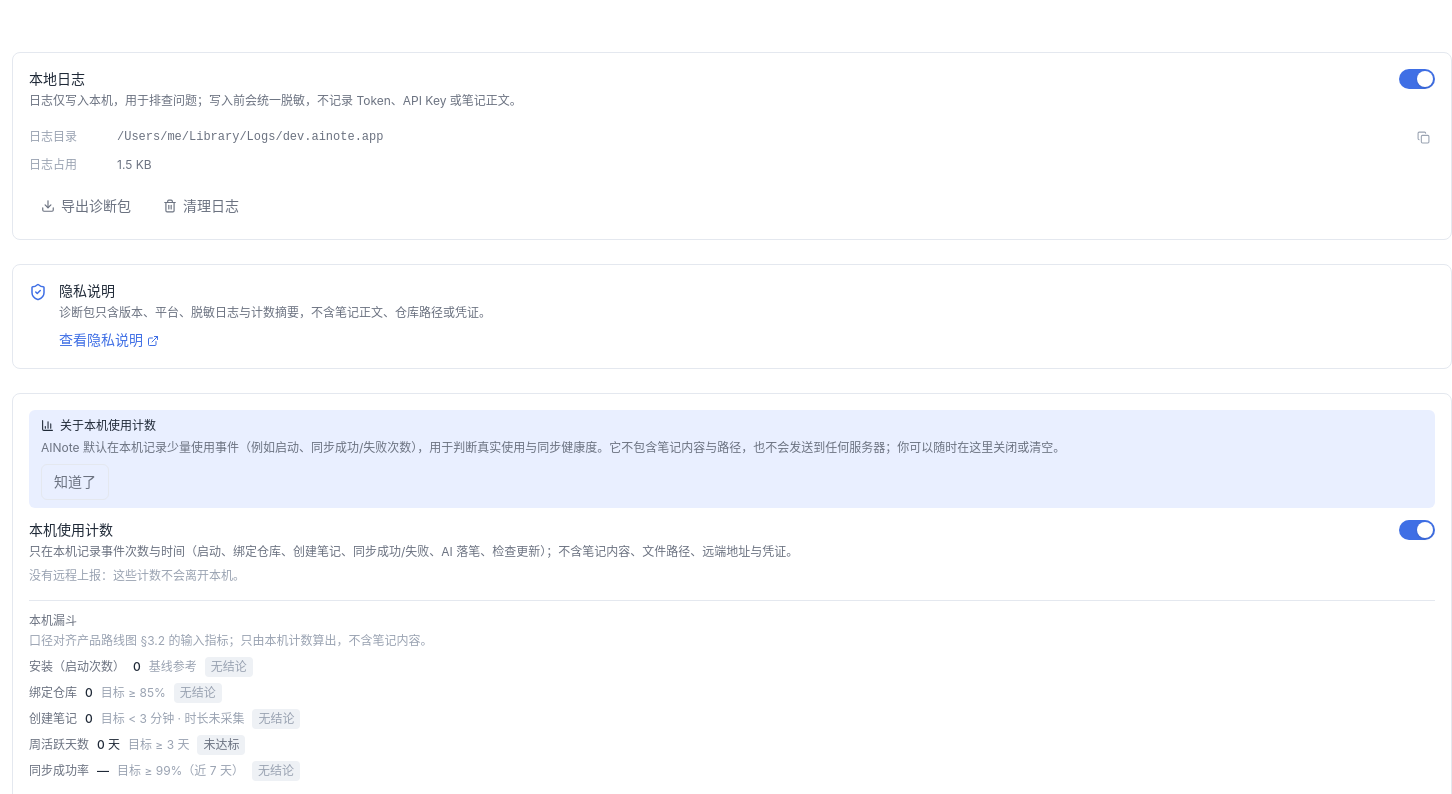
Test: SupportSettings 信息与开关 › 开关键盘可达且状态区带 aria-live
Expected: the text "1.5 KB" is shown, [117, 157, 152, 173]
Click the switch named "记录本地日志" at (1417, 79), box [1399, 69, 1435, 89]
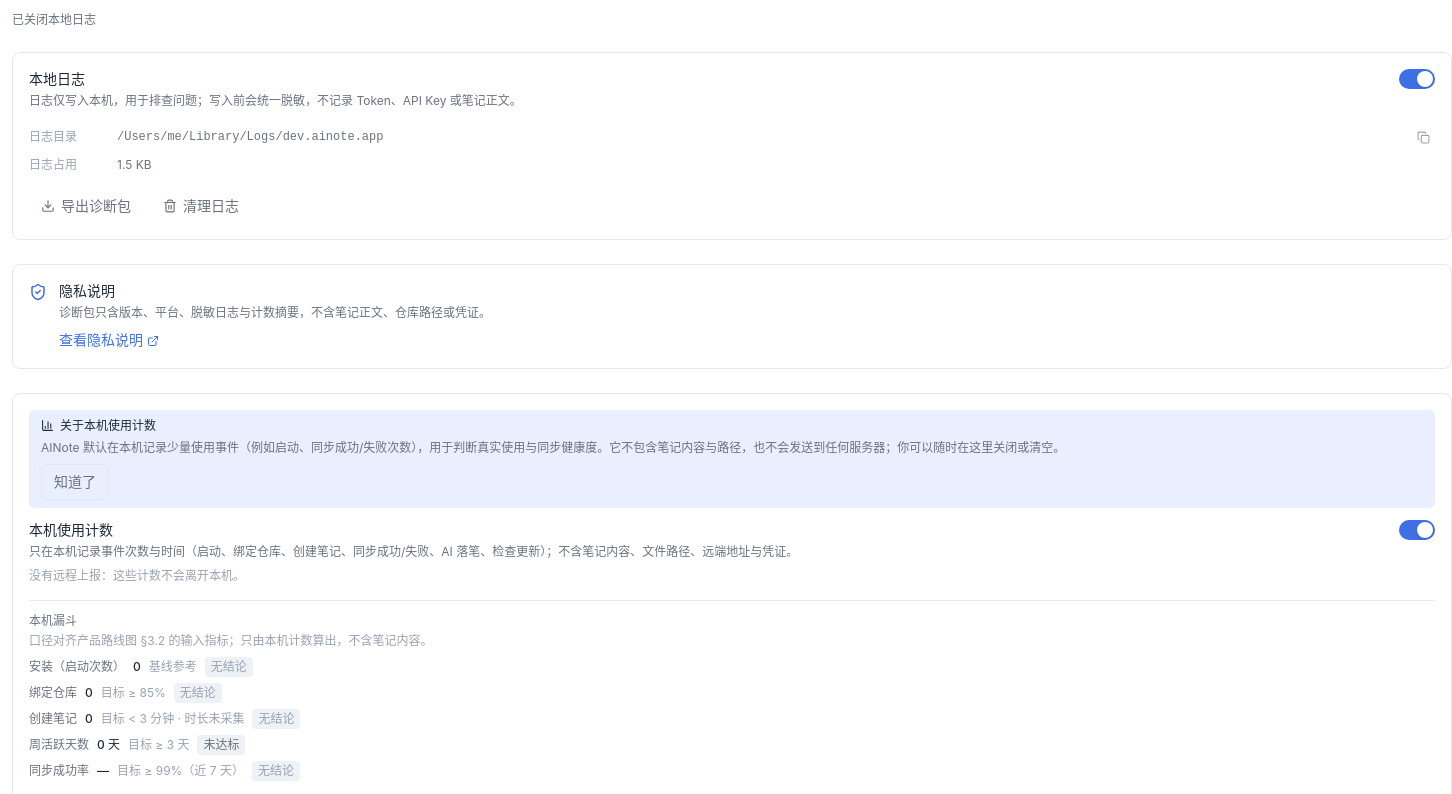
Result: the text "已关闭本地日志" is shown at [12, 12, 96, 27]
